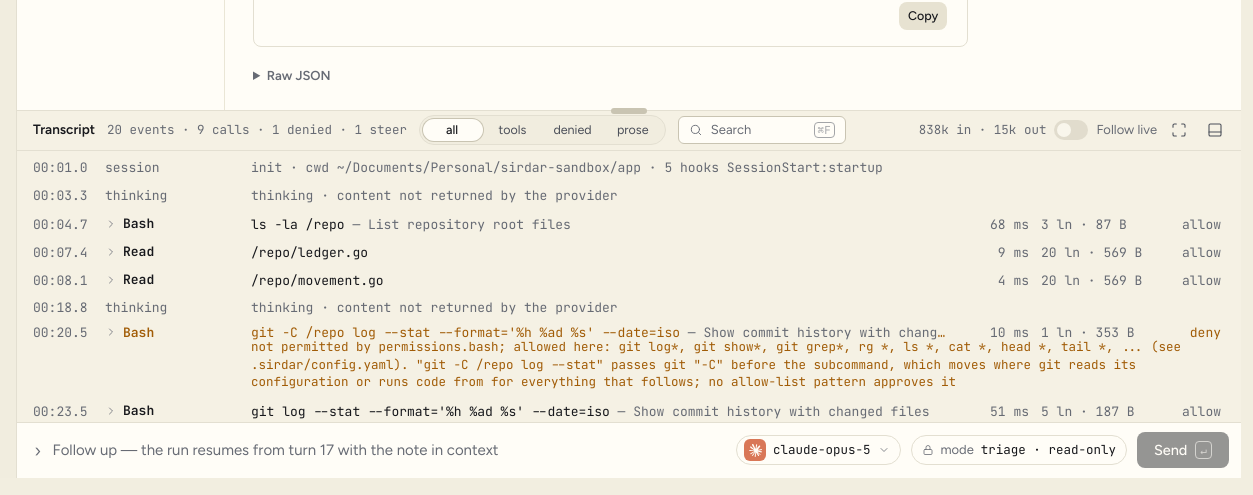
Scenario: SessionWorkbench › S1 · a completed triage opened fresh › steers the run from the command bar, notes the words in the log and follows live
(page scrolled)
Replace the text in the text box with "Look at movement.go too": (389, 450) [53,440,726,461]
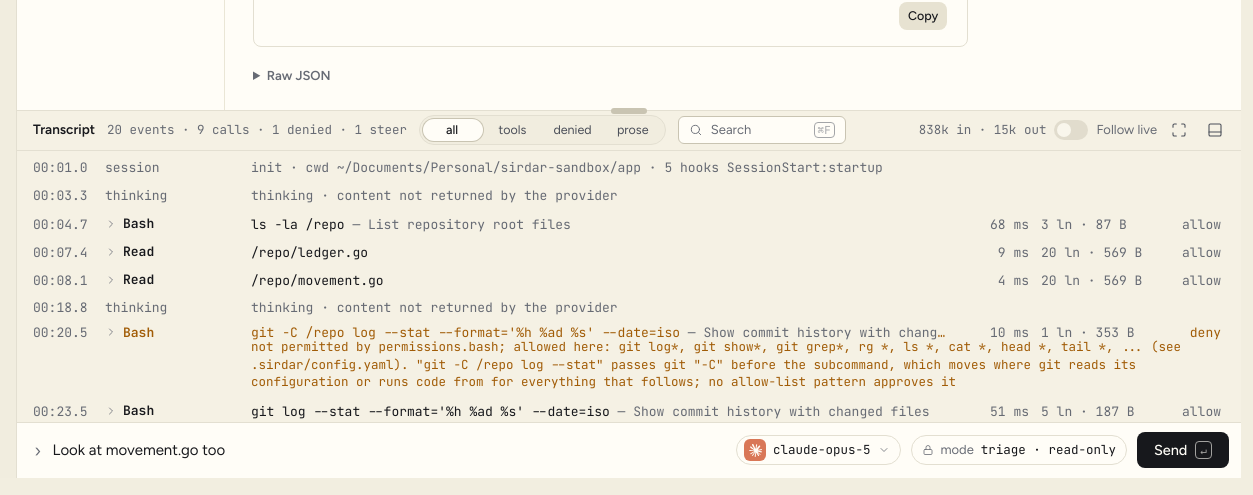
Press Enter in the text box, box [53,440,726,461]
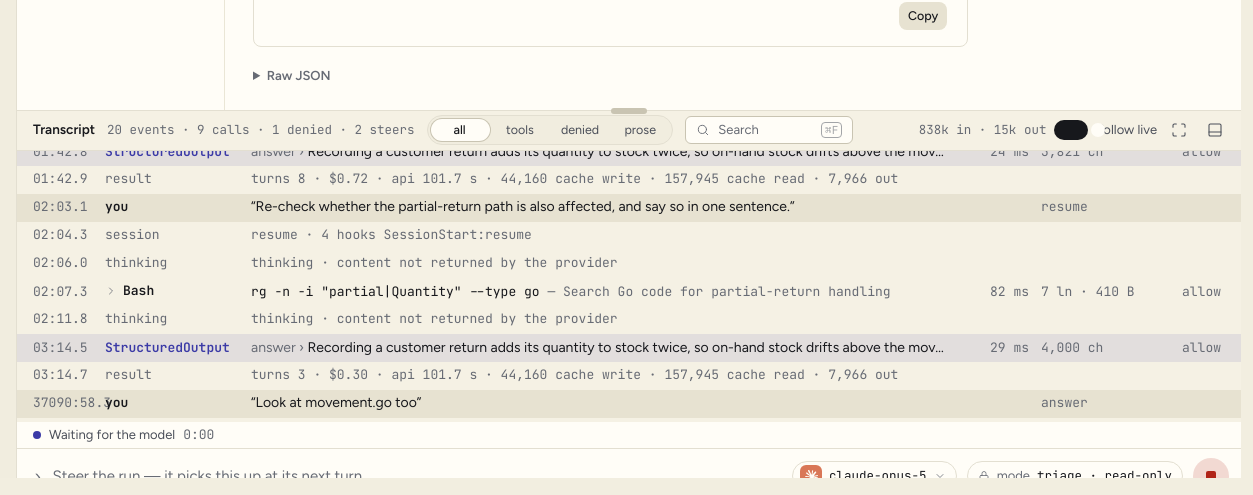
Expected: the element with class "wb-row" shows "“Look at movement.go too”", [251,394,421,412]
